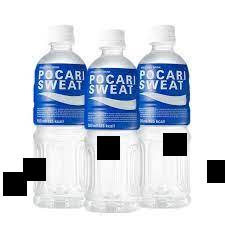pocarisweat: (133, 12, 196, 215), (27, 24, 87, 211), (86, 31, 141, 214)
